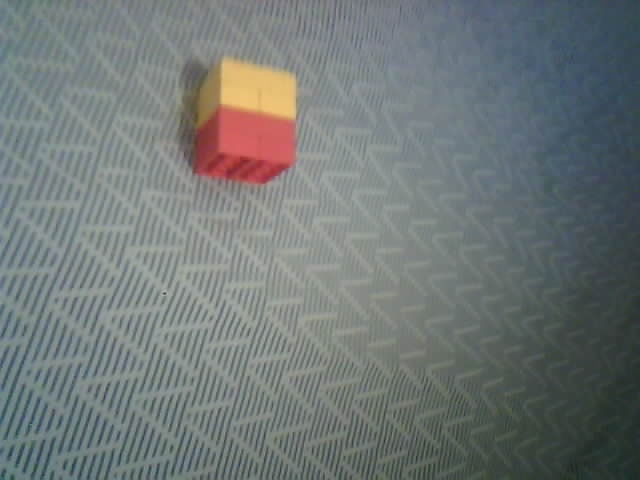lego: (191, 54, 298, 185)
